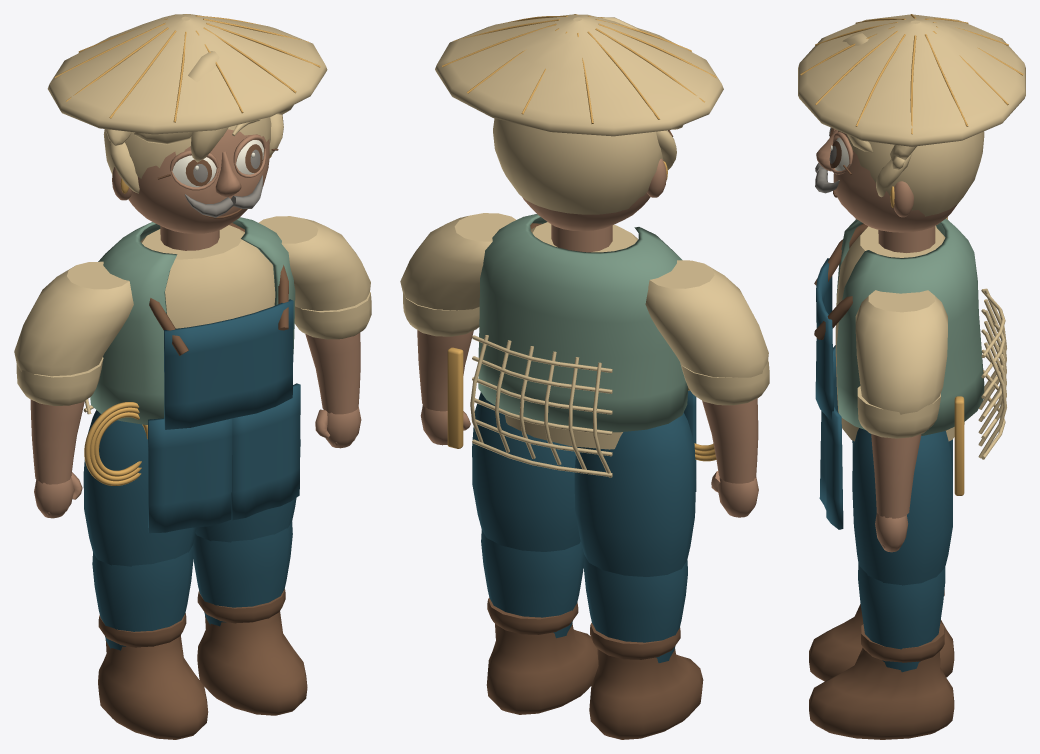
Rendered from world02-netmender-v1.glb.
3 renders of one model, left to right at view 1: azimuth 30°, elevation 25°; view 2: azimuth 150°, elevation 25°; view 3: azimuth 270°, elevation 25°, orthographic. The views are drawn at different scales.
Visible parts, largest first — view 1: head-joint__MAT_linen, left-hip__MAT_teal_dark, hero-upper__MAT_teal_dark, left-shoulder__MAT_linen, hero-upper__MAT_teal, left-knee__MAT_leather, right-knee__MAT_leather, right-hip__MAT_teal_dark, hero-upper__MAT_linen, right-shoulder__MAT_linen, head-joint__MAT_skin, left-knee__MAT_teal_dark (+9 smaller); view 2: head-joint__MAT_linen, hero-upper__MAT_teal, left-hip__MAT_teal_dark, left-shoulder__MAT_linen, right-hip__MAT_teal_dark, left-knee__MAT_leather, right-knee__MAT_leather, hero-upper__MAT_linen, right-shoulder__MAT_linen, left-knee__MAT_teal_dark, right-knee__MAT_teal_dark, left-elbow__MAT_skin (+4 smaller); view 3: head-joint__MAT_linen, hero-upper__MAT_teal, right-hip__MAT_teal_dark, right-shoulder__MAT_linen, right-knee__MAT_leather, head-joint__MAT_skin, right-knee__MAT_teal_dark, hero-upper__MAT_linen, right-elbow__MAT_skin, left-knee__MAT_leather, hero-upper__MAT_teal_dark, head-joint__MAT_ochre (+3 smaller).
Boxes of the visible parts, x1,y1,x2,y2 form: head-joint__MAT_linen: (47, 14, 327, 193); left-hip__MAT_teal_dark: (83, 410, 232, 566); hero-upper__MAT_teal_dark: (164, 299, 293, 429); left-shoulder__MAT_linen: (14, 261, 133, 405); hero-upper__MAT_teal: (90, 217, 295, 424); left-knee__MAT_leather: (98, 613, 208, 739); right-knee__MAT_leather: (197, 589, 307, 715); right-hip__MAT_teal_dark: (195, 383, 300, 542); hero-upper__MAT_linen: (83, 225, 275, 414); right-shoulder__MAT_linen: (258, 216, 371, 339); head-joint__MAT_skin: (112, 129, 269, 250); left-knee__MAT_teal_dark: (92, 545, 193, 650); head-joint__MAT_linen: (435, 14, 723, 214); hero-upper__MAT_teal: (478, 214, 688, 432); left-hip__MAT_teal_dark: (574, 390, 696, 576); left-shoulder__MAT_linen: (645, 260, 769, 405); right-hip__MAT_teal_dark: (472, 392, 580, 551); left-knee__MAT_leather: (589, 622, 703, 739); right-knee__MAT_leather: (486, 598, 598, 714); hero-upper__MAT_linen: (470, 222, 638, 477); right-shoulder__MAT_linen: (400, 213, 515, 336); left-knee__MAT_teal_dark: (583, 555, 687, 662); right-knee__MAT_teal_dark: (481, 530, 584, 638); left-elbow__MAT_skin: (702, 398, 758, 517); head-joint__MAT_linen: (798, 14, 1025, 216); hero-upper__MAT_teal: (836, 219, 984, 435); right-hip__MAT_teal_dark: (819, 407, 952, 585); right-shoulder__MAT_linen: (855, 290, 947, 438); right-knee__MAT_leather: (809, 622, 954, 739); head-joint__MAT_skin: (816, 129, 957, 252); right-knee__MAT_teal_dark: (858, 564, 945, 672); hero-upper__MAT_linen: (835, 226, 1006, 459); right-elbow__MAT_skin: (871, 434, 921, 552); left-knee__MAT_leather: (809, 590, 954, 681); hero-upper__MAT_teal_dark: (815, 258, 833, 419); head-joint__MAT_ochre: (800, 14, 1023, 207).
Bounding box in the file's own units: 1.1 × 2.04 × 0.621.
